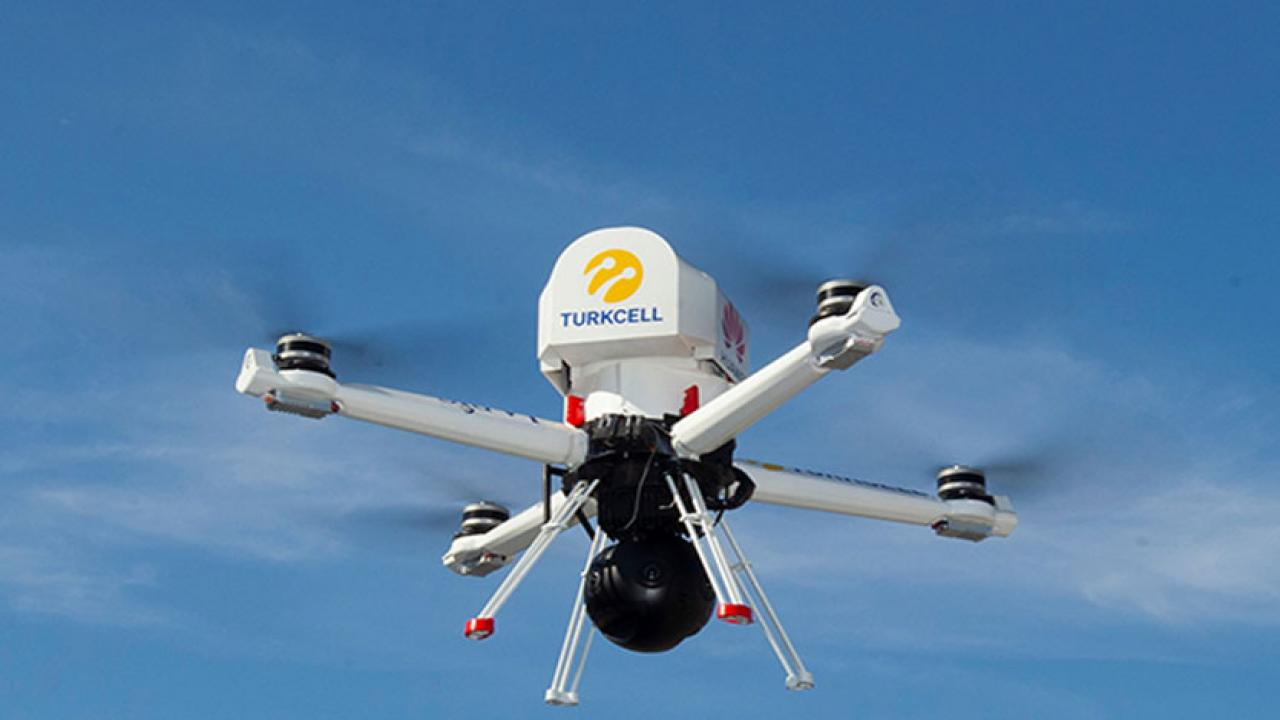Drone: (145, 175, 1191, 714)
